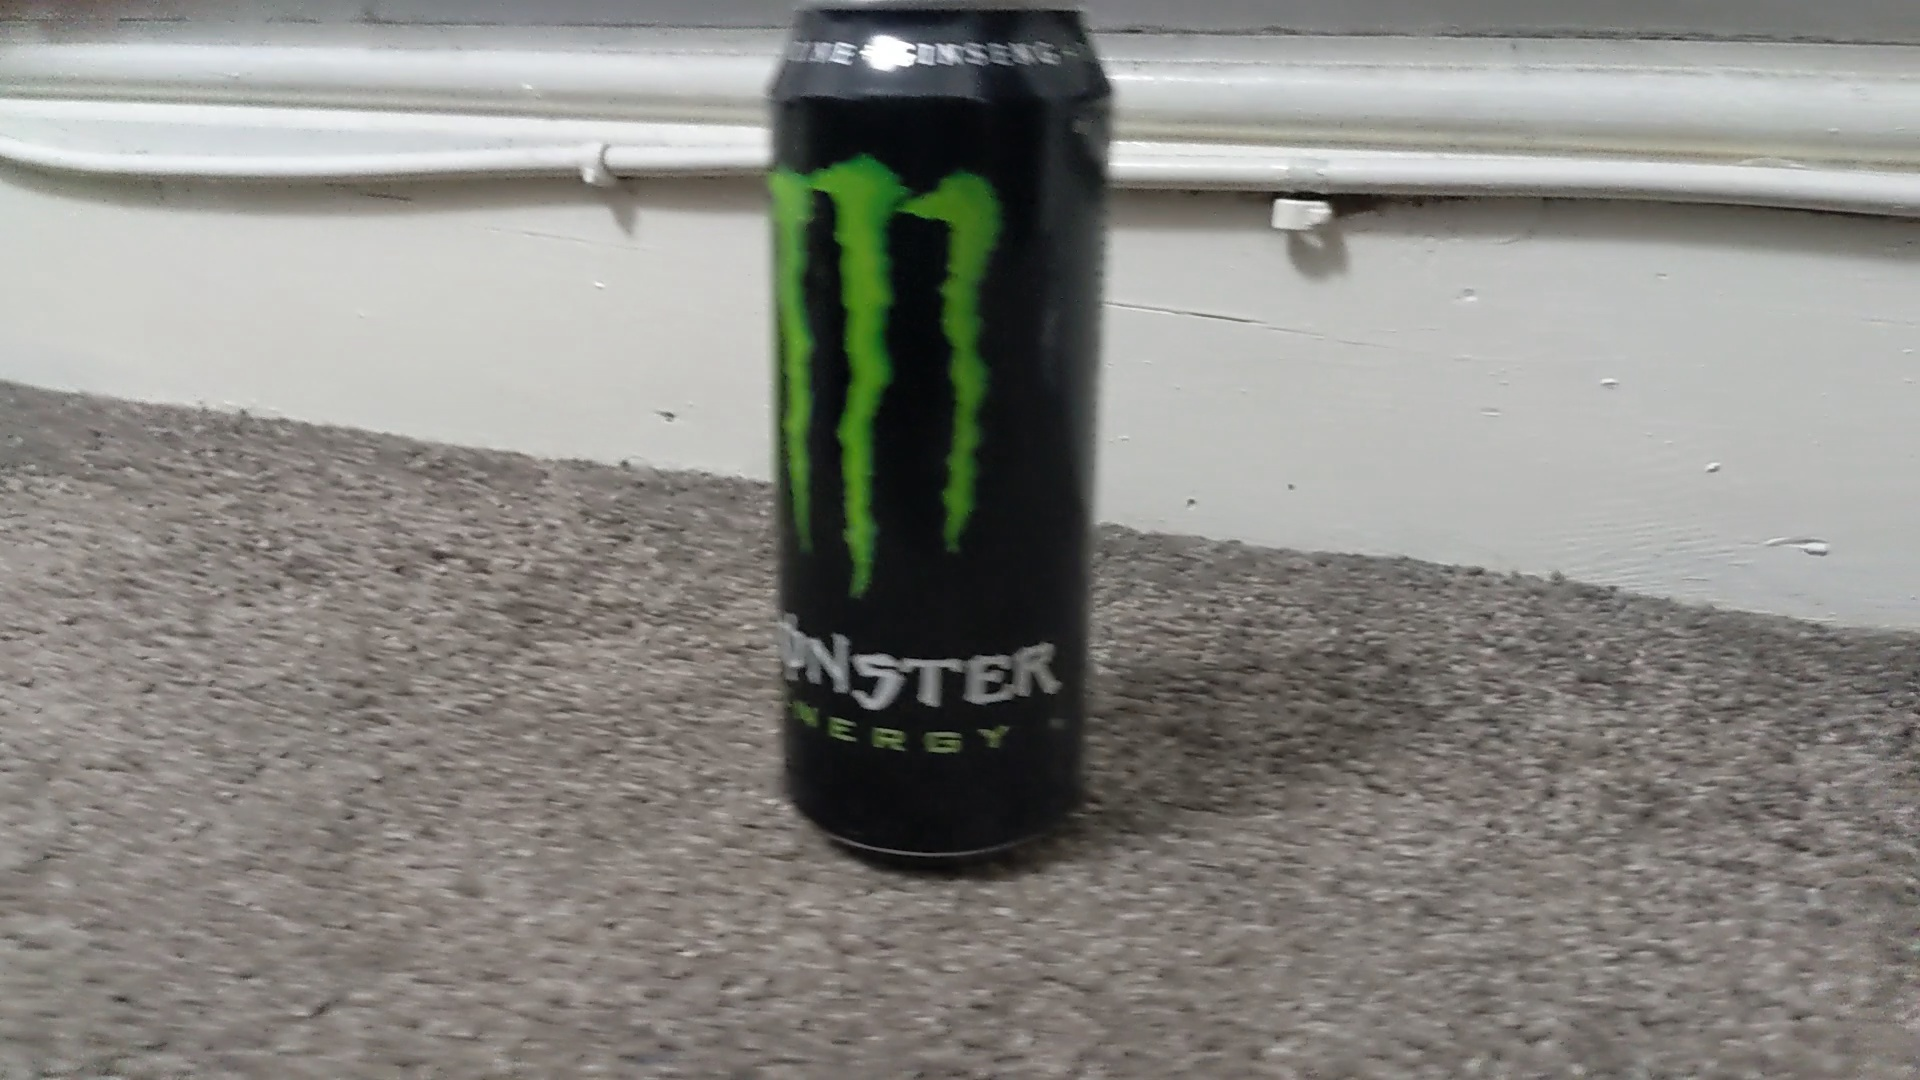monster-original: (767, 1, 1113, 864)
